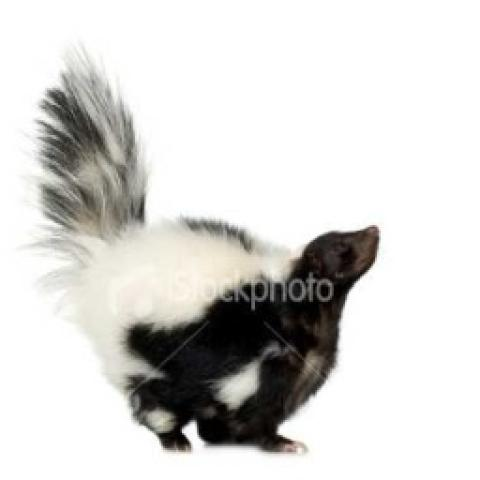small_animal: (26, 43, 384, 459)
